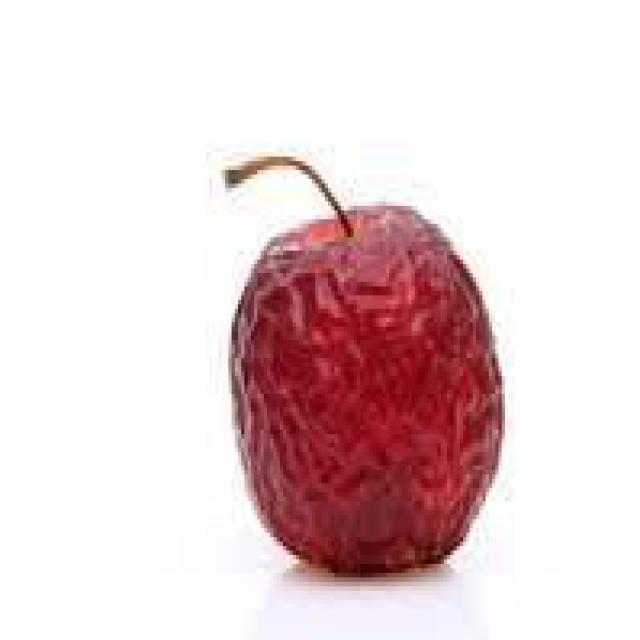organic: (225, 157, 505, 577)
